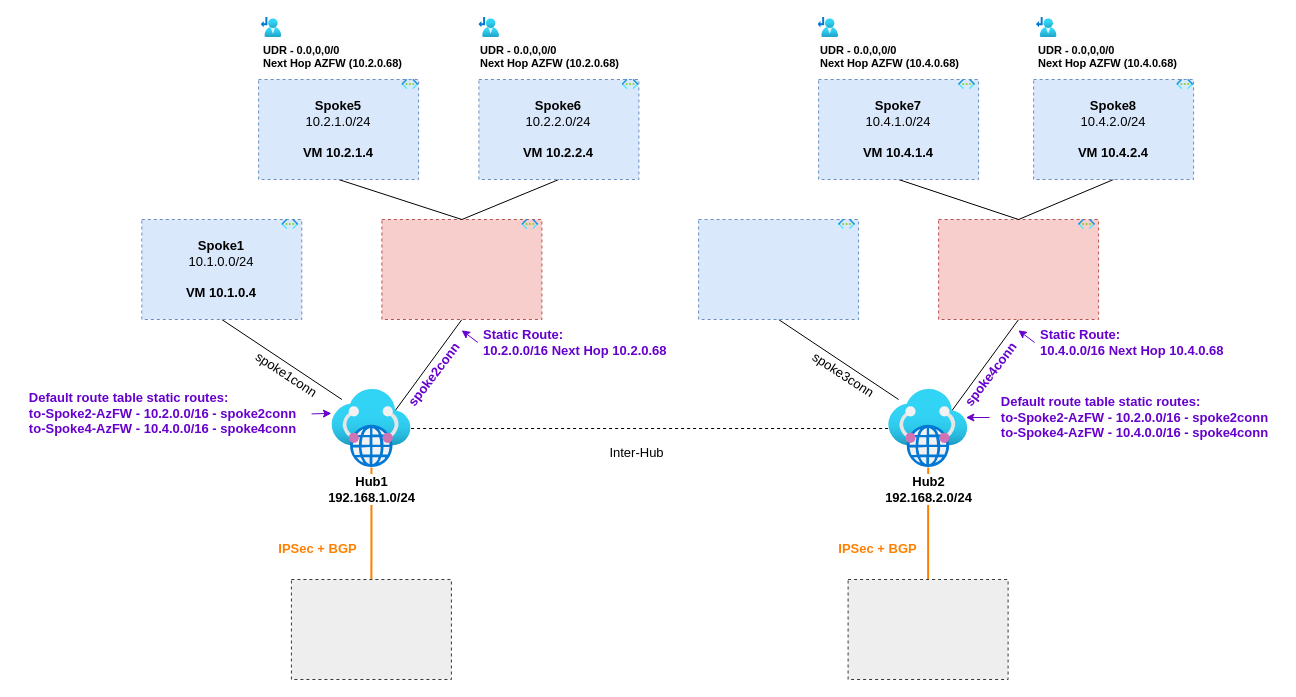
Image size: 1296x697. Some labels were removed from this diagram. Each missing label, with the box of its shape:
Branch 1 10.100.0.0/16 VM 10.100.0.4: (290, 578, 451, 680)
Branch 2 10.100.0.0/16 VM 10.200.0.4: (847, 578, 1008, 680)
Spoke2 10.2.0.0/24 AZFW 10.2.0.68: (381, 218, 542, 320)
Spoke3 10.3.0.0/24 VM 10.3.0.4: (698, 218, 859, 320)
Spoke4 10.4.0.0/24 AZFW 10.4.0.68: (938, 218, 1099, 320)
